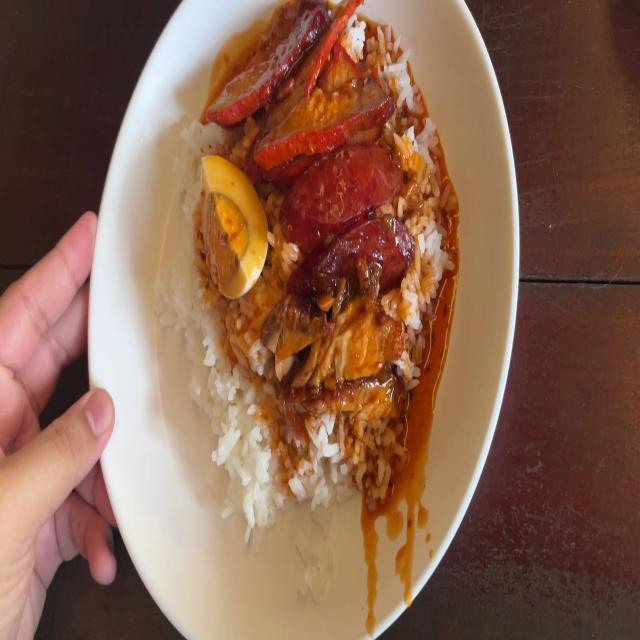01boiled_egg: (199, 158, 263, 300)
01chainese_sausage: (288, 161, 409, 284)
01crispy_pork: (267, 302, 403, 410)
01red_pork: (215, 1, 386, 154)
01red_pork_and_crispy_pork: (180, 22, 444, 492)
01rice: (190, 311, 271, 514), (271, 418, 402, 498)
